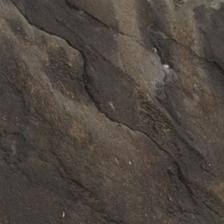Crack: (0, 58, 130, 165), (68, 39, 126, 137), (30, 152, 110, 221)
